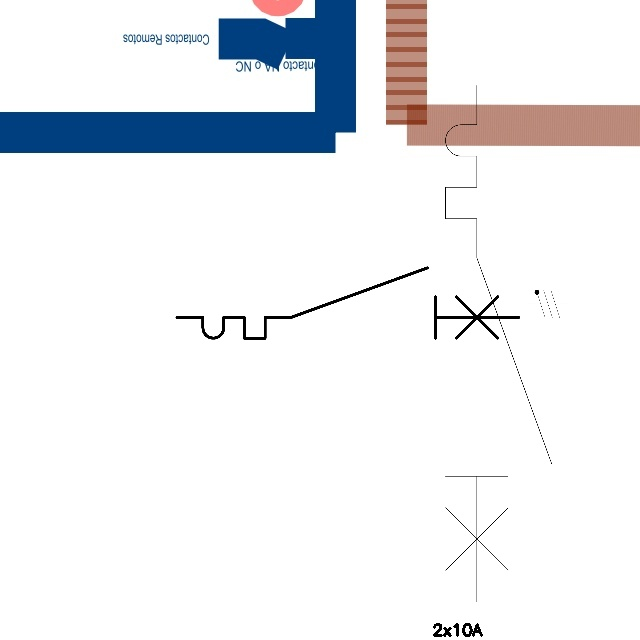interruptor_termomagnetico: (432, 72, 565, 615), (168, 259, 527, 347)
